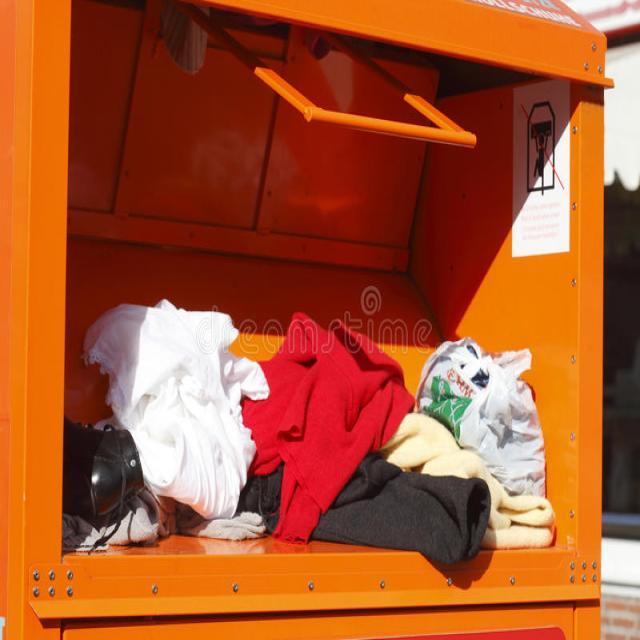clothes: (111, 300, 541, 539)
